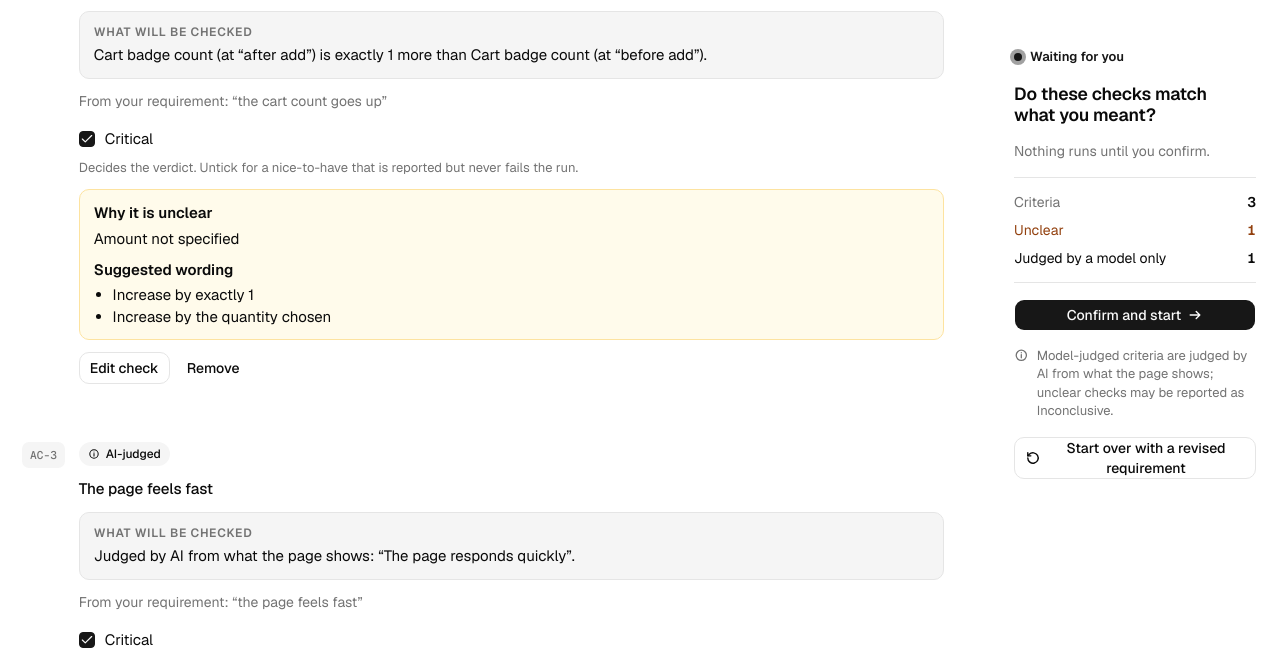
Test case: CriteriaReview › confirm is available again once the open check edit is saved
(page scrolled)
Click the button with aria-label "Edit check AC-2" at (124, 368), box [79,352,170,384]
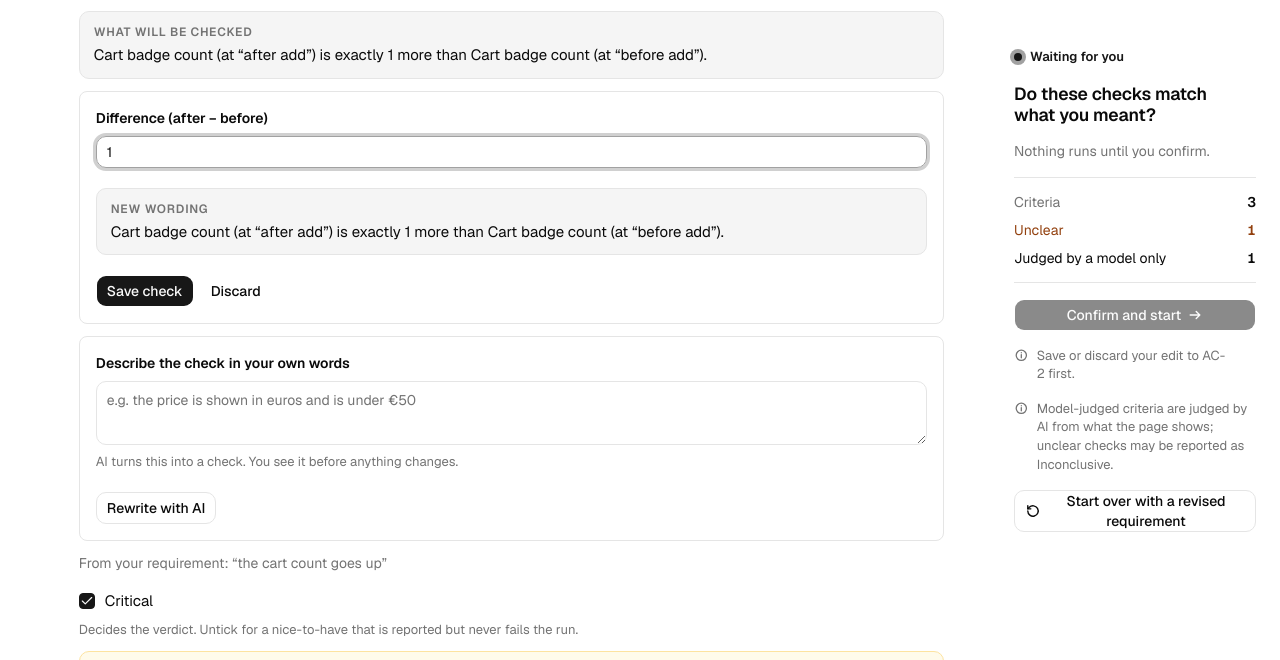
Replace the text in the field labelled "Difference (after − before)" with "2" at (511, 152), box [96,136,927,168]
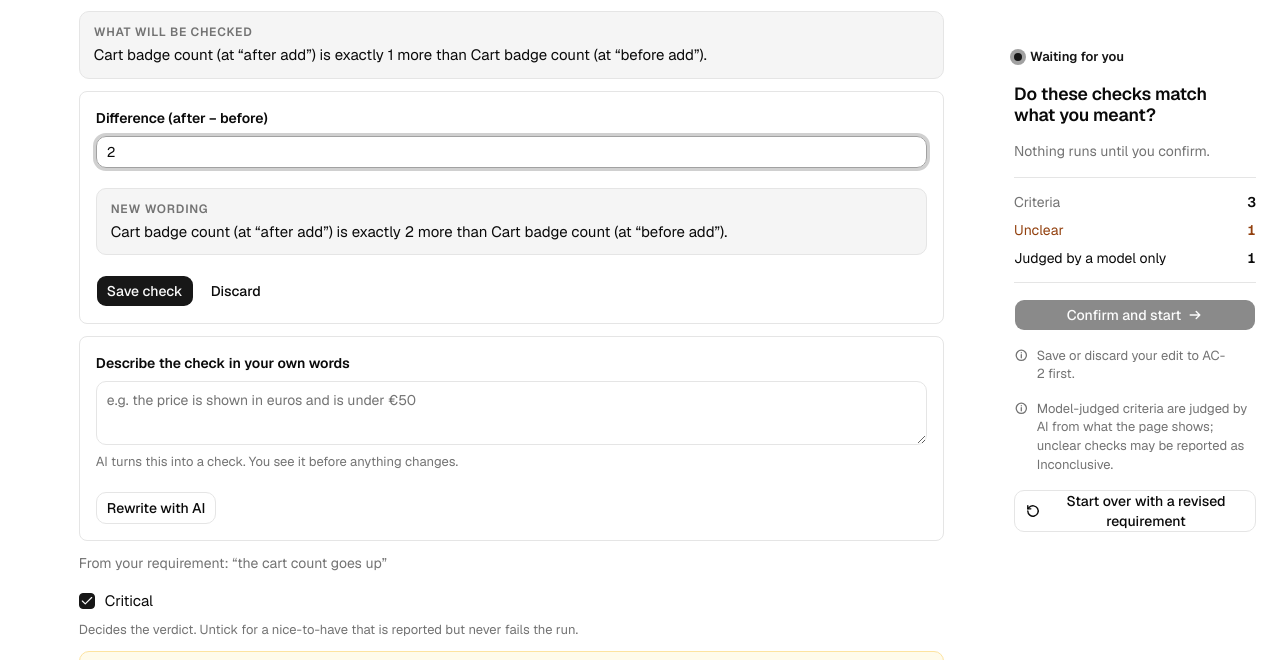
Now the button "Confirm and start" is disabled, box [1014,299,1256,331]
Click the button "Save check" at (145, 291), box [96,275,194,307]
(page scrolled)
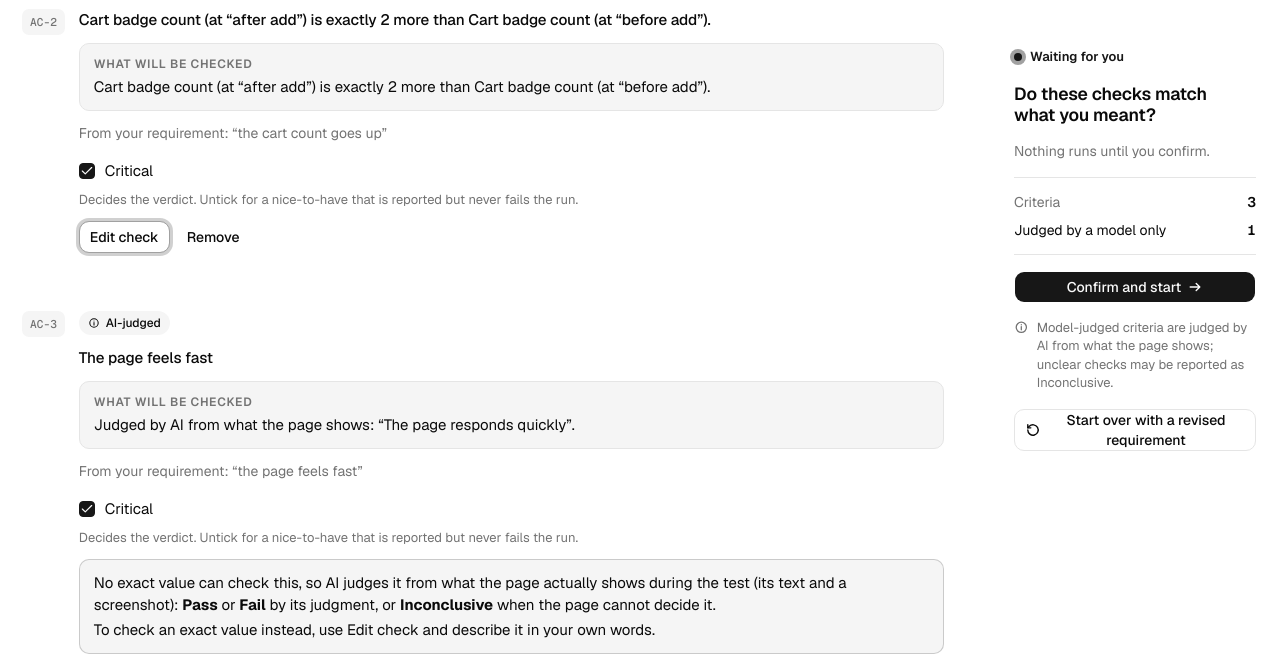
Now the button "Confirm and start" is enabled, box [1014,271,1256,303]
